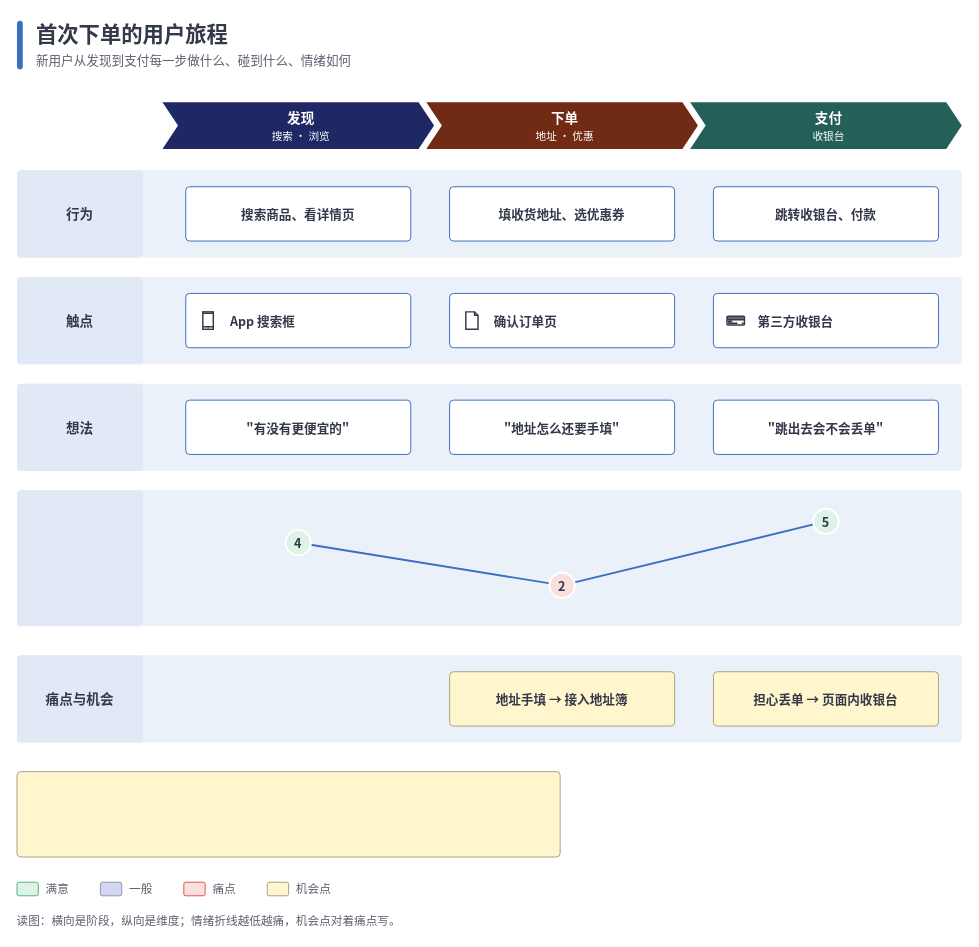
The diagram is 979 pixels wide and 947 high, and some of its shapes have lost their labels. Here are the shapes that lost their labels. From the top down, the centre of each, then its label:
At point 79,558: "情绪".
At point 288,814: "数据来源 10 位新用户的访谈记录 情绪分 1–5 由受访者自评".
